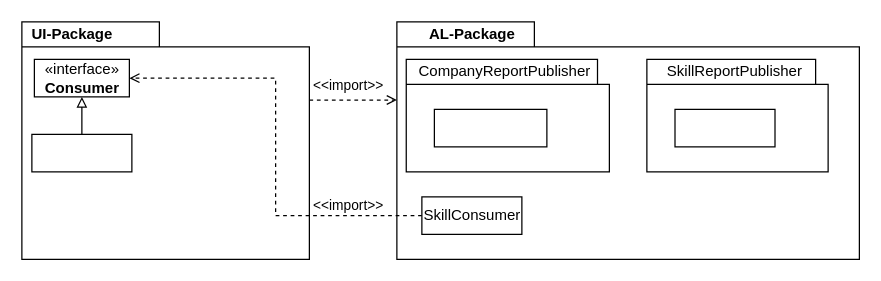
This 881x281 diagram has some shape labels left out. Here are the shapes that lost their labels. From the top down, the centre of each, then its label:
point (490, 127): CompanyReport
point (724, 127): SkillReport
point (81, 152): Consumer
